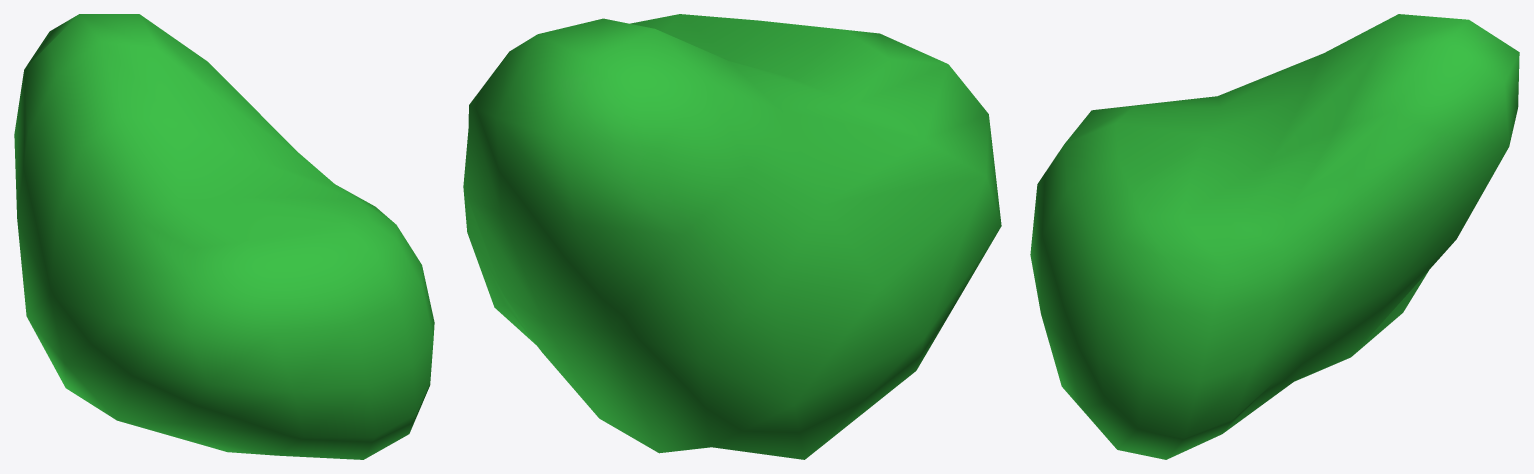
The model's file is Tree Top 1.fbx.
3 renders of one model, left to right at view 1: azimuth 30°, elevation 25°; view 2: azimuth 150°, elevation 25°; view 3: azimuth 270°, elevation 25°, orthographic. The views are drawn at different scales.
Parts seen in each view (by area): view 1: Group61412; view 2: Group61412; view 3: Group61412.
Part boxes in pixels (box(x1,y1,x2,y2)): Group61412: box(14, 14, 434, 459); Group61412: box(463, 14, 1001, 459); Group61412: box(1030, 14, 1519, 459).
Size of the model in its own units: 0.8792 by 0.9031 by 1.09.
1 material, 1 textured.
